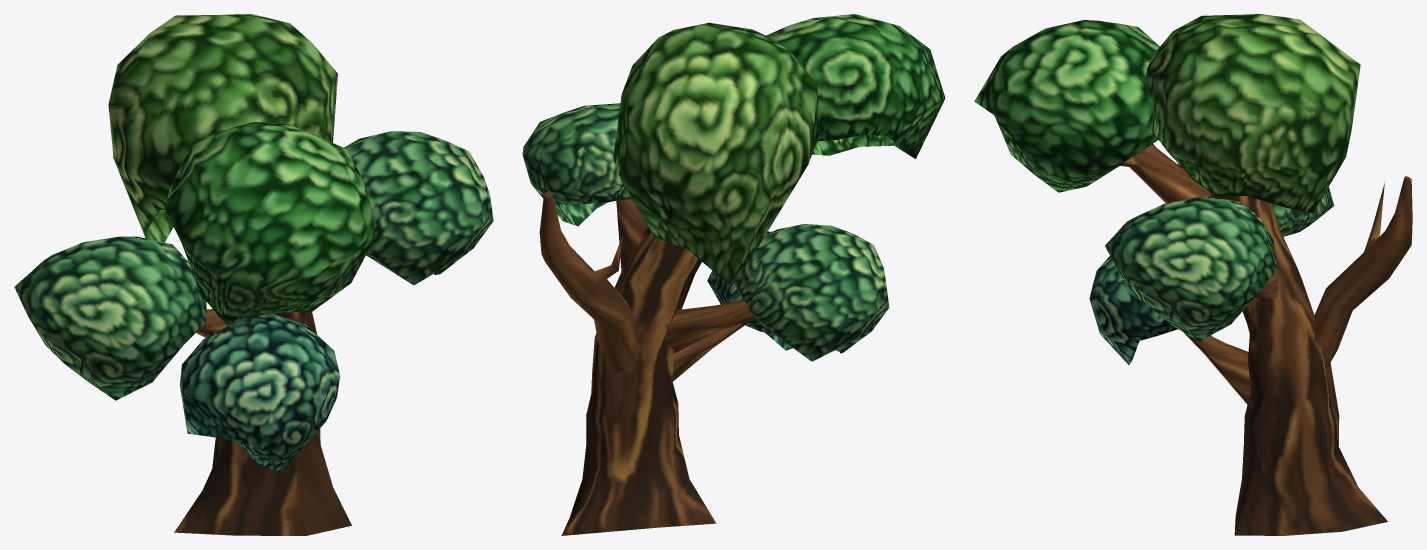
The model's file is Ntree_2_2.fbx.
3 views of the same model, side by side, from view 1: azimuth 30°, elevation 25°; view 2: azimuth 150°, elevation 25°; view 3: azimuth 270°, elevation 25° (orthographic). The views are drawn at different scales.
Parts seen in each view (by area): view 1: Ntree_2_2; view 2: Ntree_2_2; view 3: Ntree_2_2.
Boxes of the visible parts, x1,y1,x2,y2 form: Ntree_2_2: [14, 14, 493, 535]; Ntree_2_2: [522, 14, 945, 535]; Ntree_2_2: [974, 14, 1412, 535].
Bounding box in the file's own units: 189 × 228 × 195.
